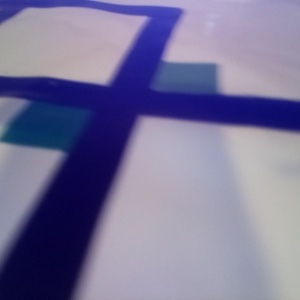bottom_right: (1, 86, 106, 153)
top_right: (124, 62, 217, 95)
